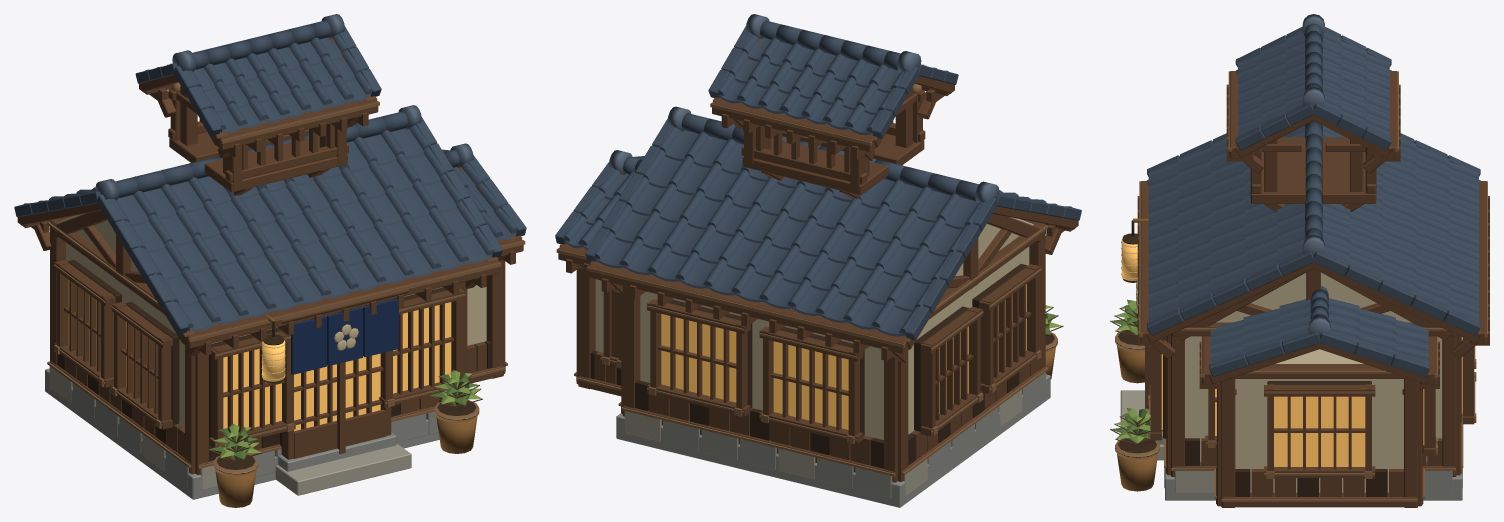
3 renders of one model, left to right at view 1: azimuth 30°, elevation 25°; view 2: azimuth 150°, elevation 25°; view 3: azimuth 270°, elevation 25°, orthographic.
Parts seen in each view (by area): view 1: compact_tower_1_geometry, compact_tower_1_geometry ceramic; view 2: compact_tower_1_geometry, compact_tower_1_geometry ceramic; view 3: compact_tower_1_geometry, compact_tower_1_geometry ceramic.
Boxes of the visible parts, x1,y1,x2,y2 form: compact_tower_1_geometry: [17, 38, 525, 507]; compact_tower_1_geometry ceramic: [14, 14, 526, 335]; compact_tower_1_geometry: [556, 38, 1078, 507]; compact_tower_1_geometry ceramic: [555, 14, 1081, 340]; compact_tower_1_geometry: [1110, 40, 1489, 507]; compact_tower_1_geometry ceramic: [1147, 14, 1480, 376].
Size of the model in its own units: 0.8171 by 0.78 by 0.7087.
